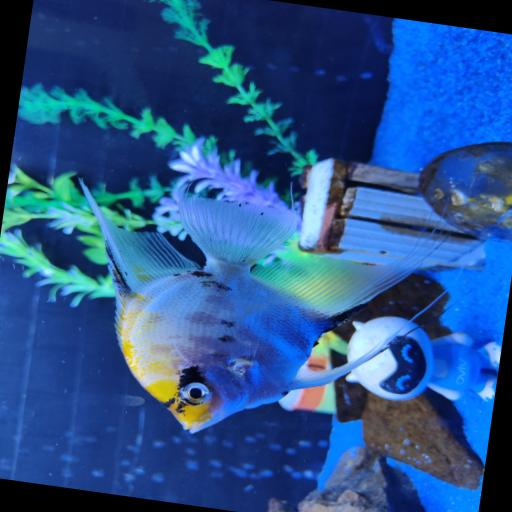Fish: (81, 181, 435, 432)
